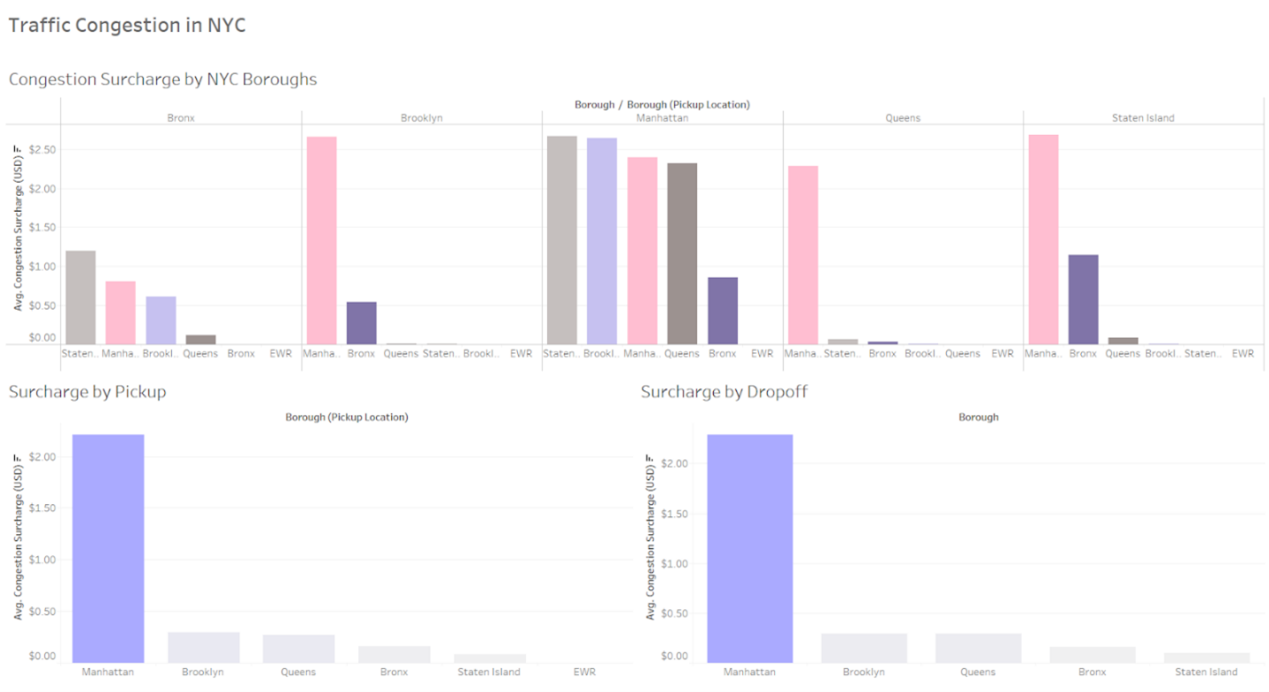

Layout of this report page (visuals, bound fields, positions):
{"tool":"tableau","page":{"name":"Dashboard 3","canvas":[1920,1080],"ordinal":2},"visuals":[{"type":"text","box":[8,8,1904,114]},{"type":"worksheet","title":"Congestion Surcharge","mark":"Automatic","rows":["congestion_surcharge"],"cols":["borough","borough (pickup_location)"],"box":[8,122,1904,471.5]},{"type":"worksheet","title":"Pickup Surcharge","mark":"Automatic","rows":["congestion_surcharge"],"cols":["borough (pickup_location)"],"box":[8,593.5,952,478.5]},{"type":"worksheet","title":"Dropoff Surcharge","mark":"Automatic","rows":["congestion_surcharge"],"cols":["borough"],"box":[960,593.5,952,478.5]}]}

Visuals, with their boxes on the page's 1920x1080 design canvas (x1, y1, x2, y2). These are canvas units, not pixel positions in the 1269x692 screenshot, which may show the page scaled, cropped or inside an application window:
text: crop(8, 8, 1912, 122)
"Congestion Surcharge" worksheet: crop(8, 122, 1912, 594)
"Pickup Surcharge" worksheet: crop(8, 594, 960, 1072)
"Dropoff Surcharge" worksheet: crop(960, 594, 1912, 1072)
